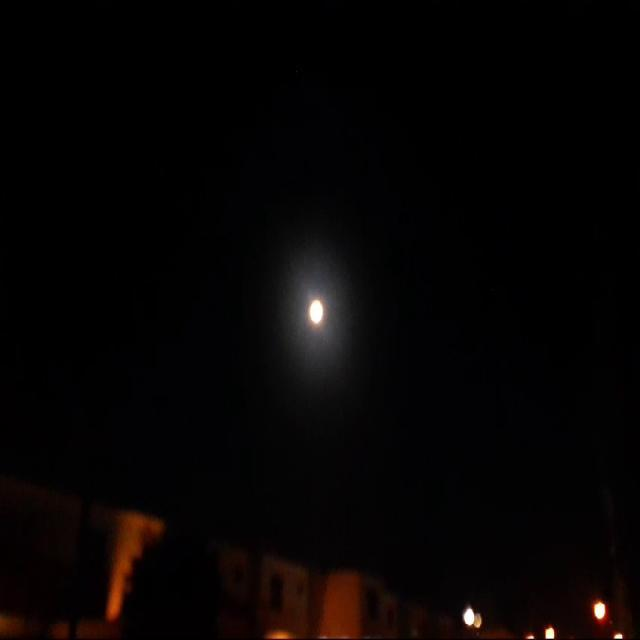moon: (304, 302, 321, 336)
